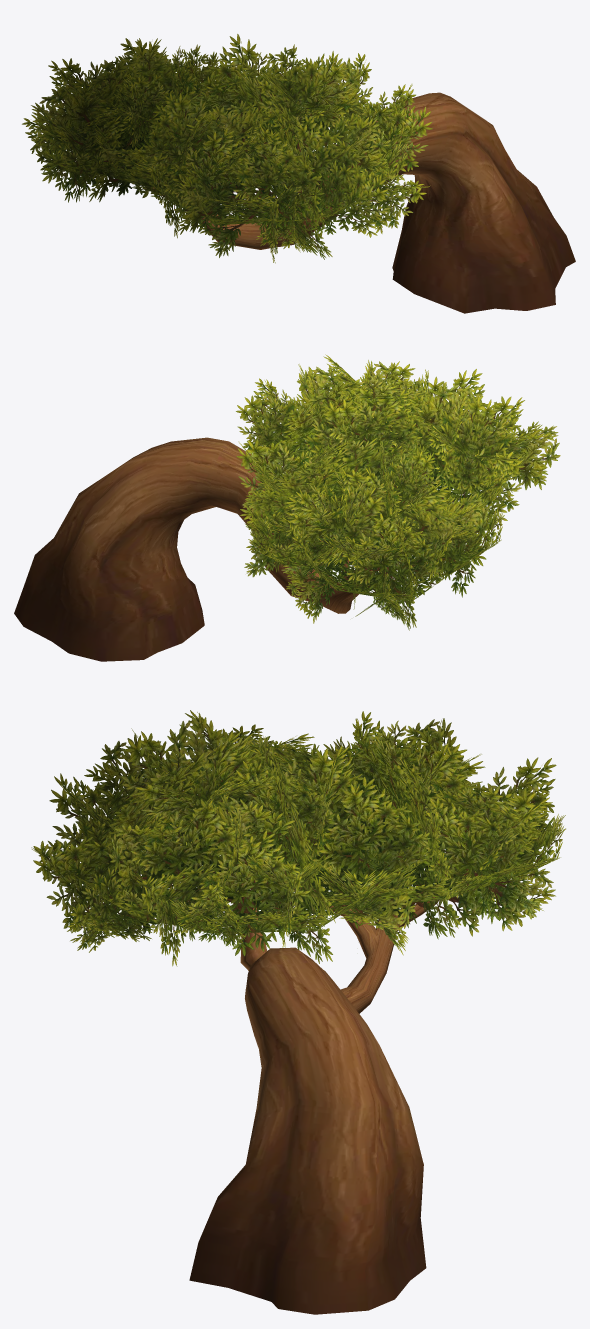
3 views of the same model, one above another, from view 1: azimuth 30°, elevation 25°; view 2: azimuth 150°, elevation 25°; view 3: azimuth 270°, elevation 25° (orthographic). The views are drawn at different scales.
Size of the model in its own units: 31.18 by 18.04 by 23.08.
Materials: 2 (2 with a texture image).
